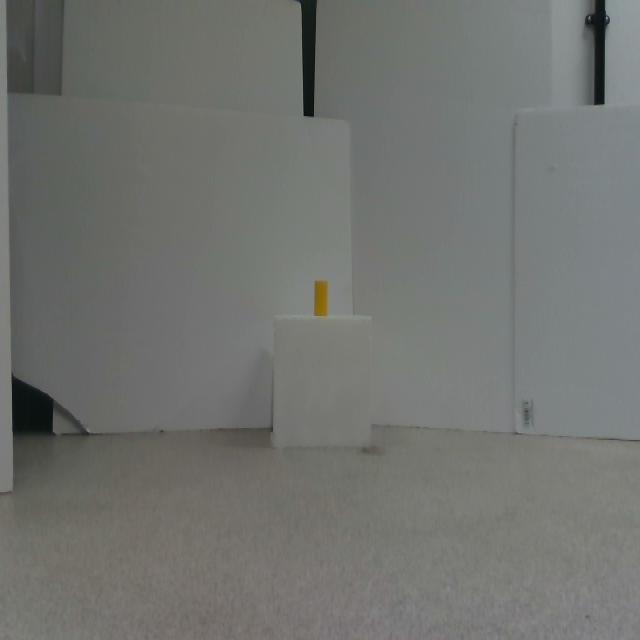yellow_cylinder: (314, 280, 328, 317)
